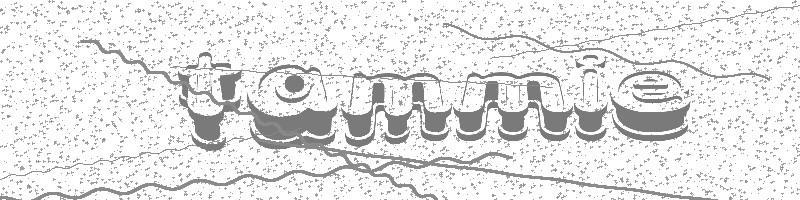a: (244, 57, 339, 144)
e: (609, 65, 694, 144)
i: (571, 49, 611, 142)
m: (340, 68, 453, 145), (455, 69, 572, 142)
t: (175, 49, 245, 151)
